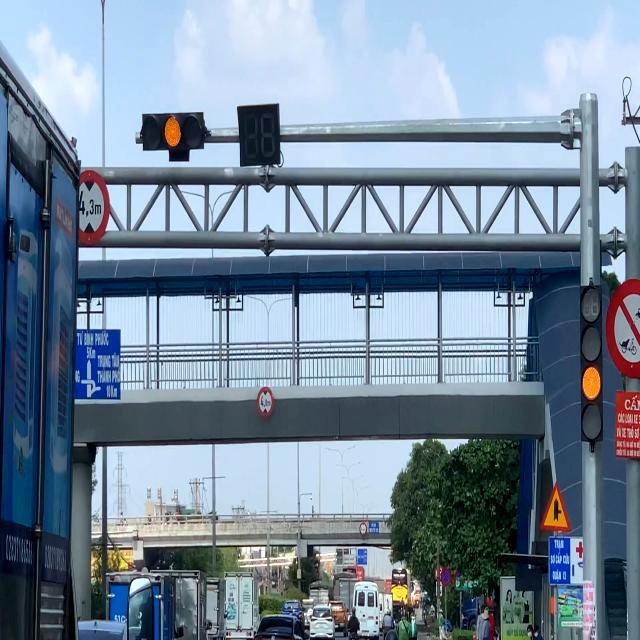Cam dung xe va do xe: (440, 567, 450, 587)
Giao nhau voi duong khong uu tien ben phai: (539, 479, 572, 534)
Han che chieu cao: (257, 384, 274, 420)
